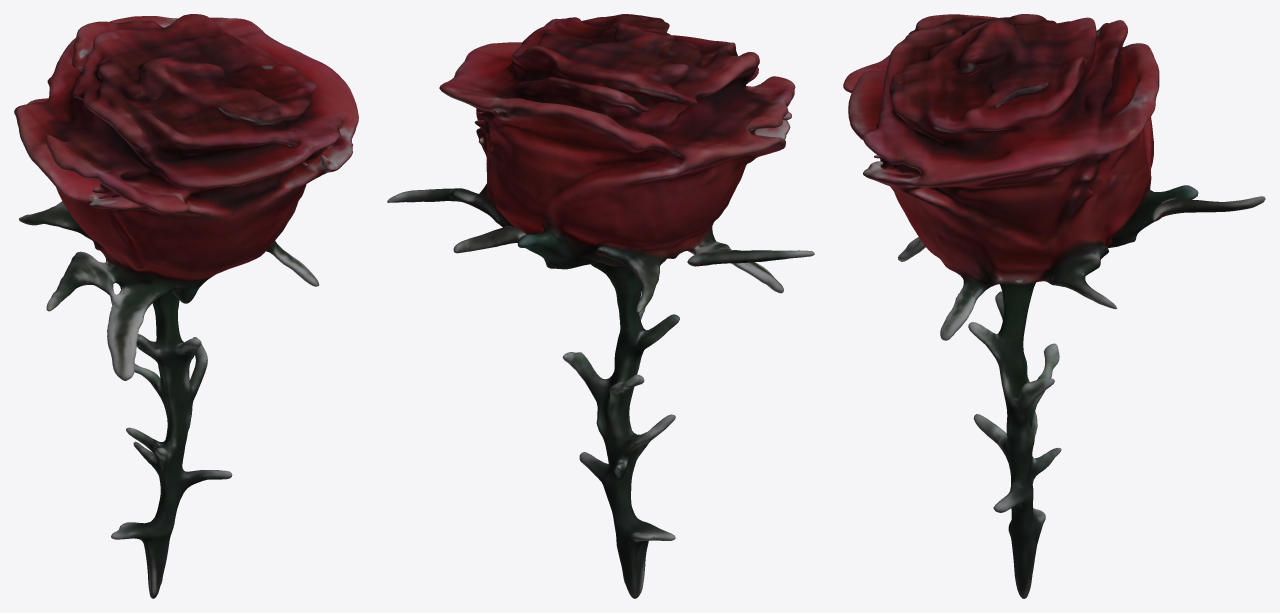
The model's file is 241ff651eb0e_a_rose_with_thorns_.fbx.
3 renders of one model, left to right at view 1: azimuth 30°, elevation 25°; view 2: azimuth 150°, elevation 25°; view 3: azimuth 270°, elevation 25°, orthographic. The views are drawn at different scales.
Visible parts, largest first — view 1: high_poly; view 2: high_poly; view 3: high_poly.
Part boxes in pixels (x1,y1,x2,y2): high_poly: [14, 14, 358, 598]; high_poly: [387, 14, 814, 598]; high_poly: [843, 14, 1265, 598].
Bounding box in the file's own units: 65.38 × 100 × 66.92.
